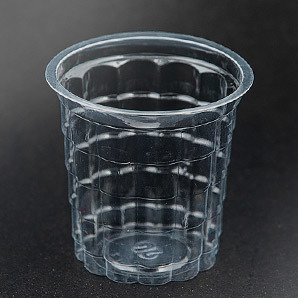plastic_glass: (42, 29, 257, 286)
